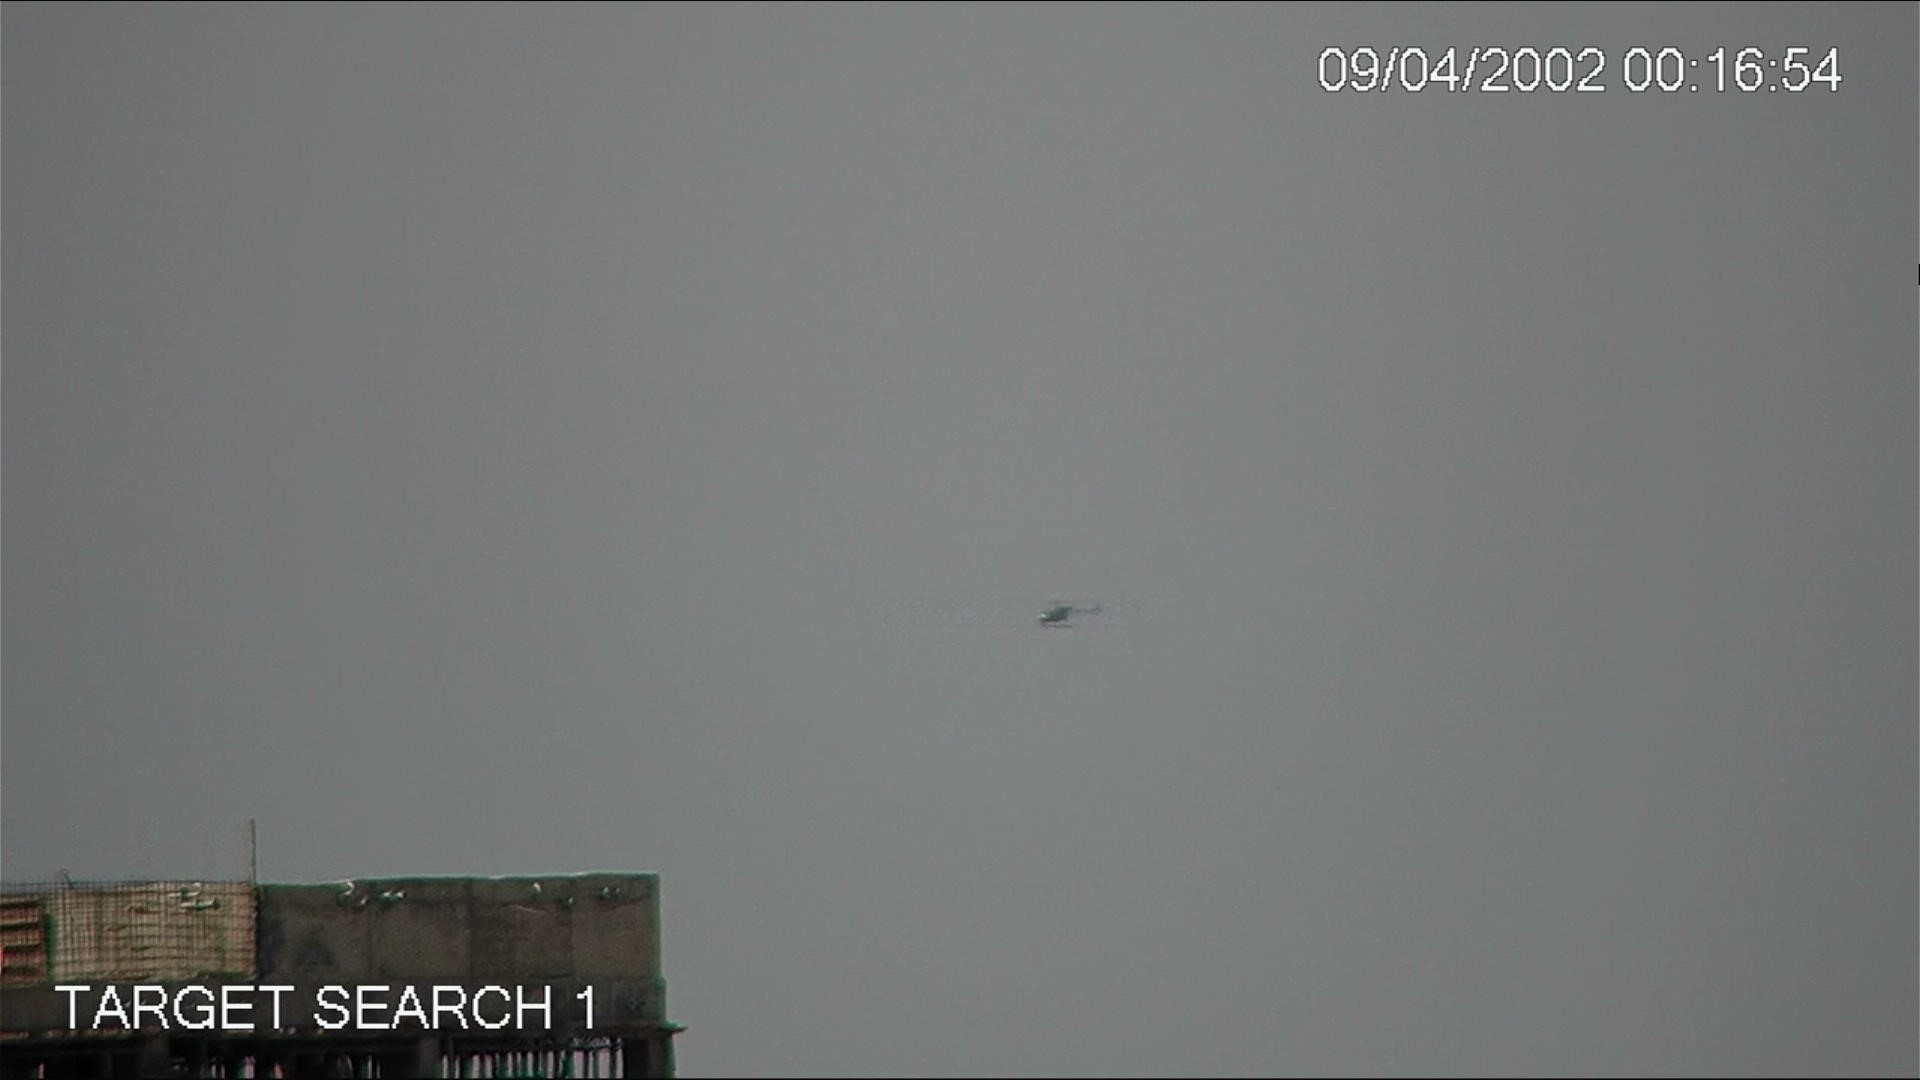SU_30: (1034, 601, 1073, 625)
